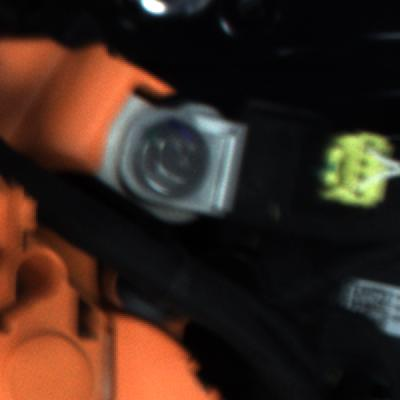nut_b: (122, 119, 217, 200)
